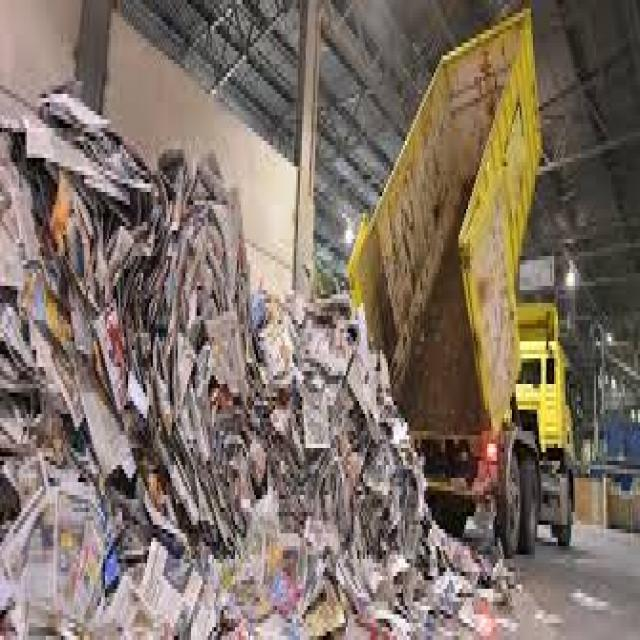Paper -Biodegradable-: (0, 95, 503, 640)
